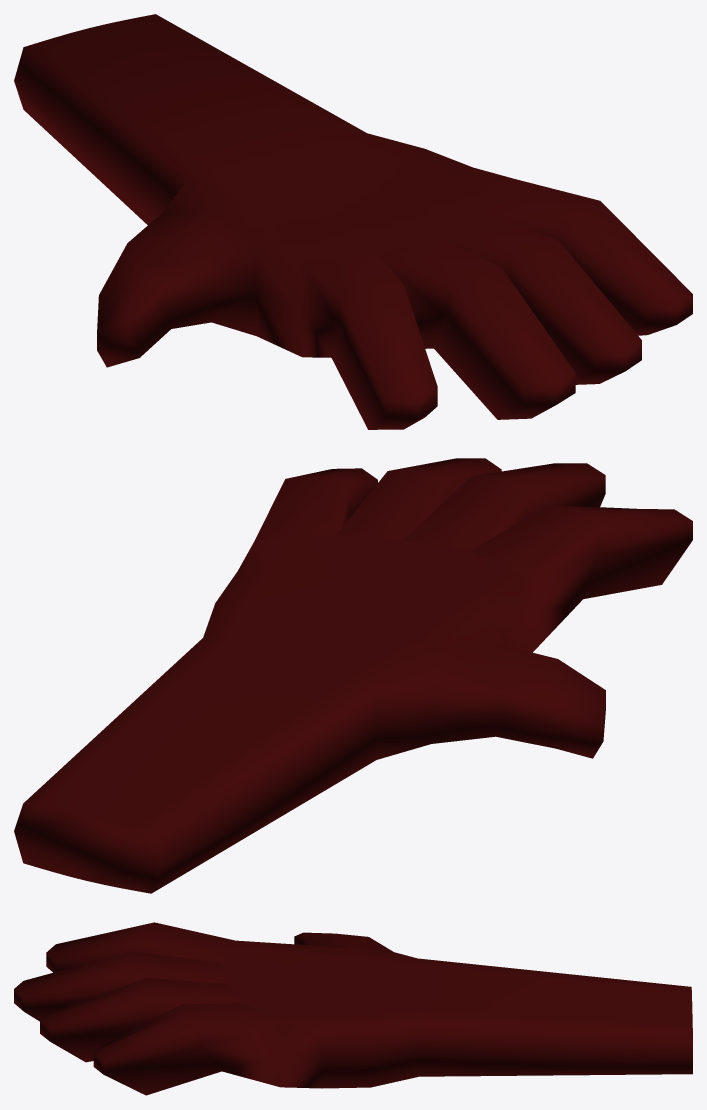
The model's file is playerHandLeft.obj.
3 views of the same model, one above another, from view 1: azimuth 30°, elevation 25°; view 2: azimuth 150°, elevation 25°; view 3: azimuth 270°, elevation 25° (orthographic). The views are drawn at different scales.
Visible parts, largest first — view 1: 立方体; view 2: 立方体; view 3: 立方体.
Boxes of the visible parts, box(x1,y1,x2,y2) form: 立方体: box(14, 14, 692, 429); 立方体: box(14, 458, 692, 893); 立方体: box(14, 922, 692, 1095).
Bounding box in the file's own units: 1.84 × 0.5352 × 3.59.
